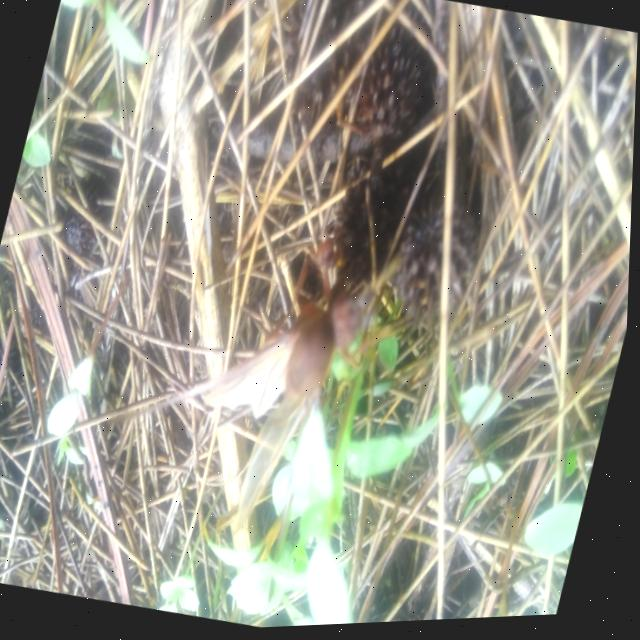Alive-Female-Alate: (176, 206, 438, 565)
